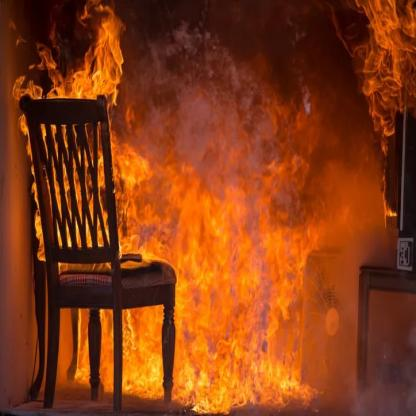fire: (25, 12, 325, 403), (358, 0, 416, 146)
smoke: (136, 33, 260, 171), (358, 314, 416, 416)
